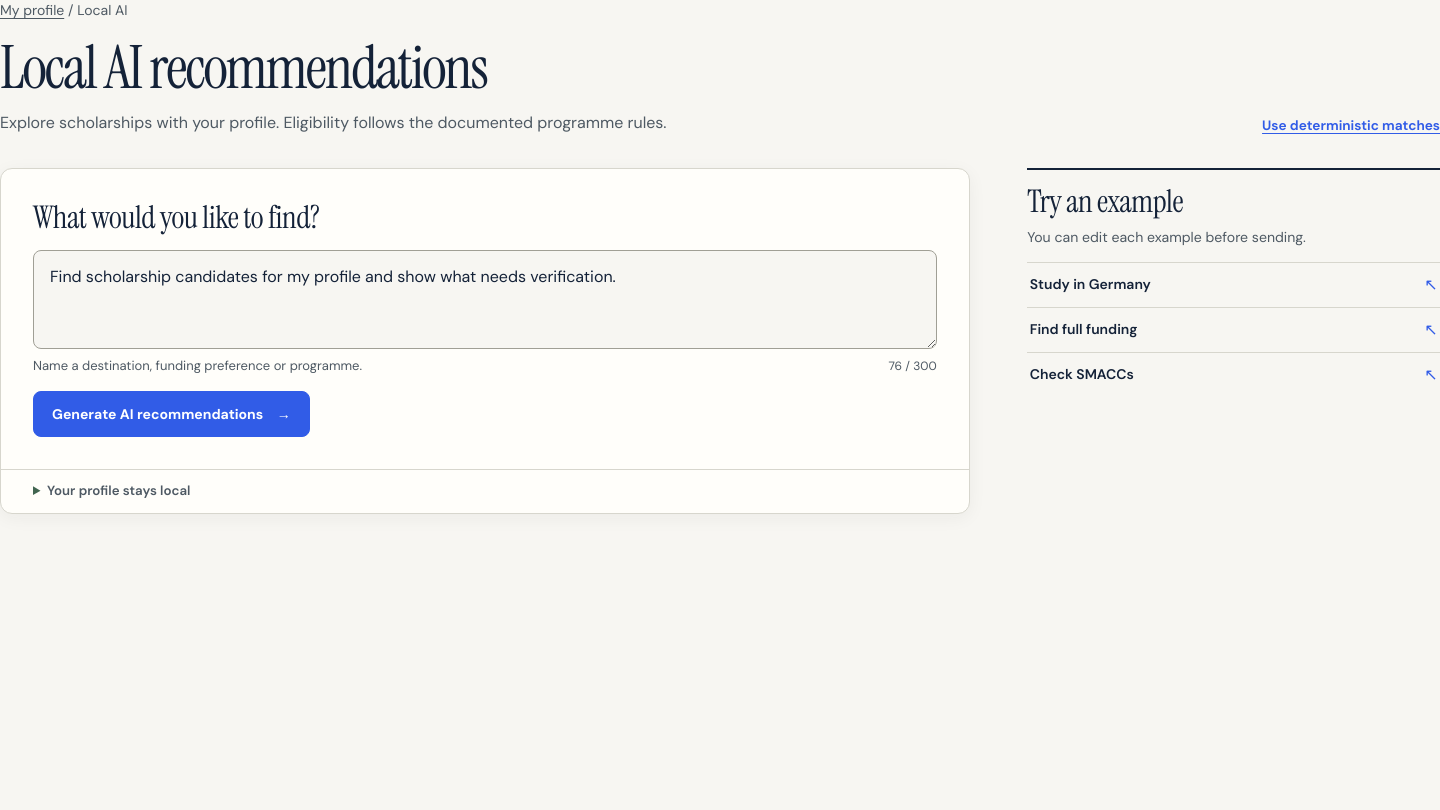
Test: local agent recommendations › keeps deterministic matches available during an Ollama outage and can retry
The image size is (1440, 810).
Click the button "Generate AI recommendations →": (171, 414) [33,391,310,437]
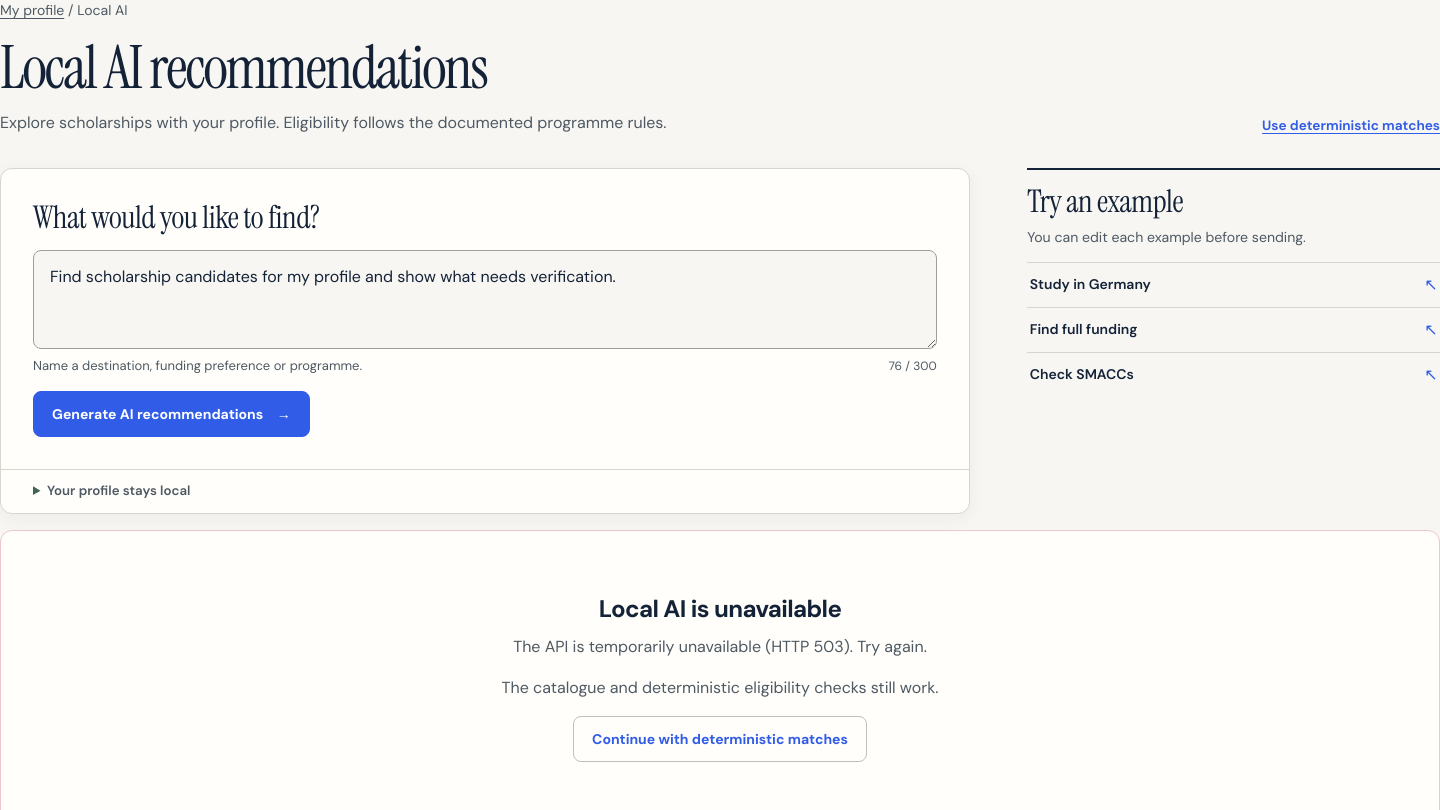
Now the message shows "HTTP 503", box [513,636,927,657]
Click the button "Generate AI recommendations →": (171, 414) [33,391,310,437]
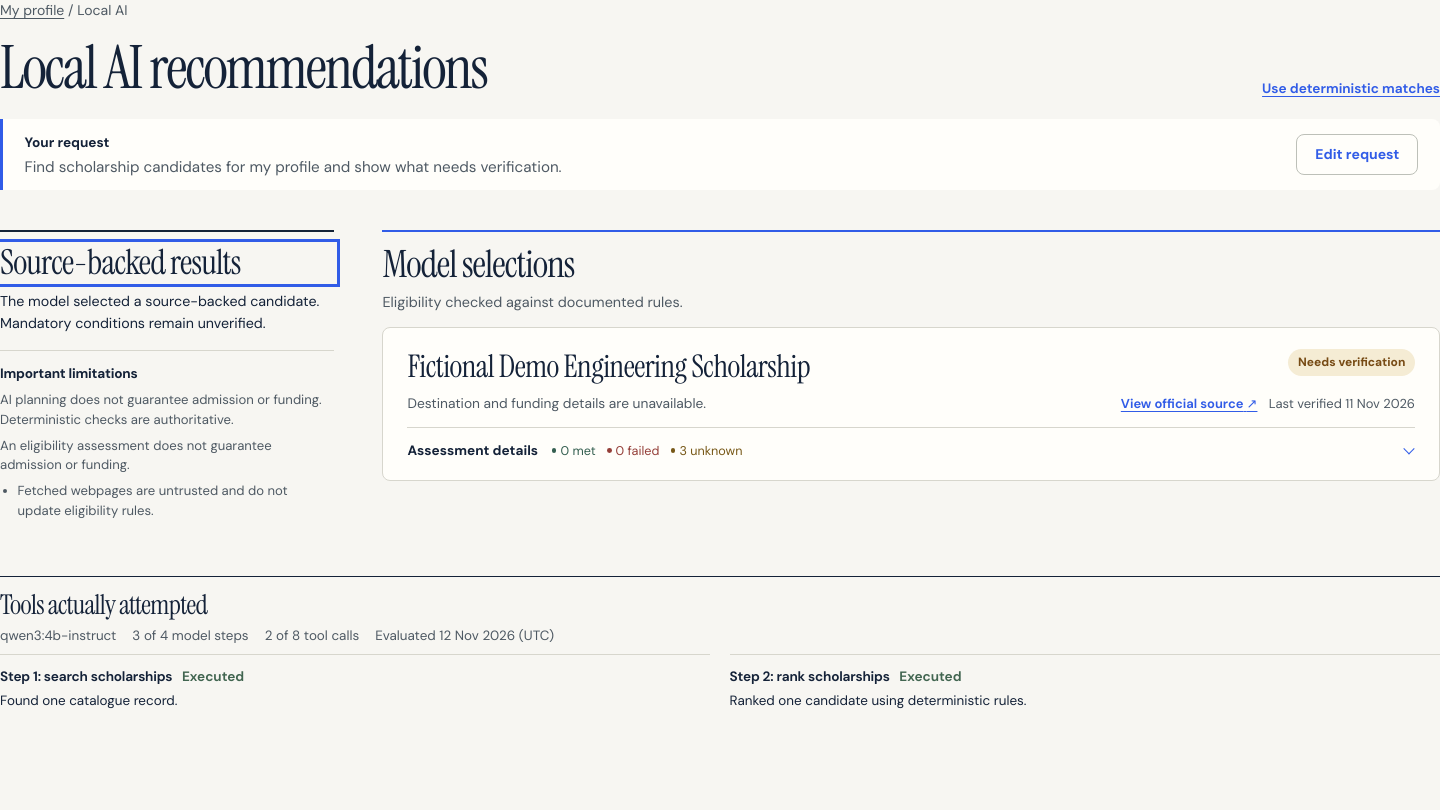
Now the element named "Local AI response" is shown
